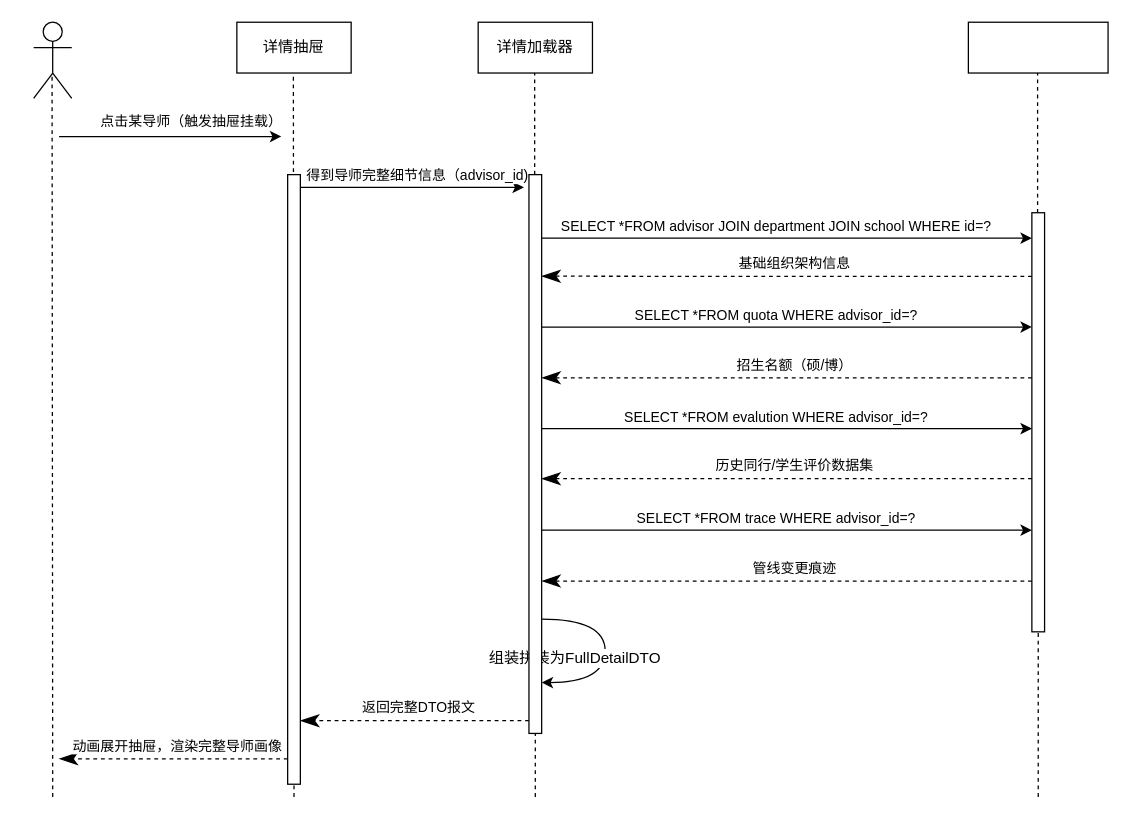
This 1130x820 diagram has some shape labels left out. The shapes that lost their labels are listed below. From the top down, each one's box as (x1, y1, x2, y2) in pixels, then its label:
(32, 21, 72, 98): 匿名访客
(967, 21, 1108, 73): 独立只读数据库
